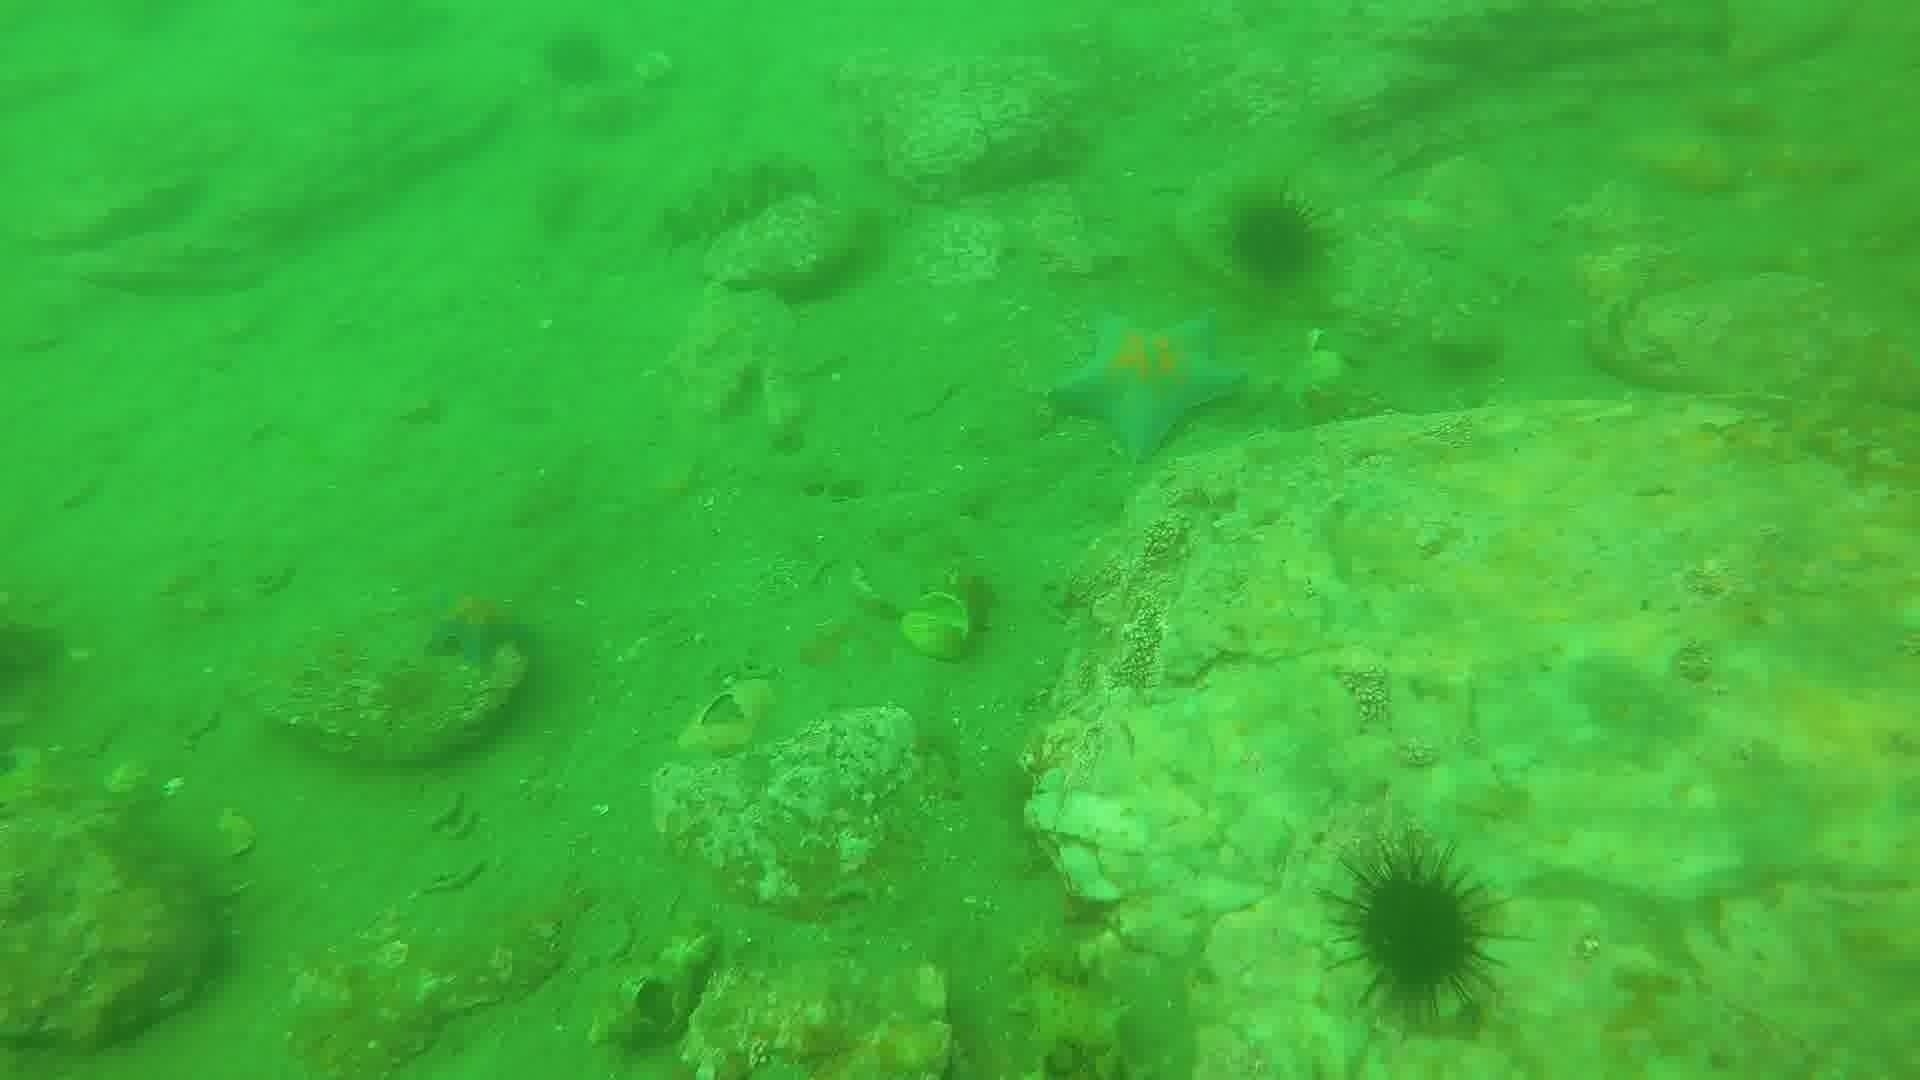echinus: (1327, 841, 1509, 1022), (1222, 190, 1331, 291), (535, 25, 615, 94)
holothurian: (1006, 913, 1135, 1077), (657, 148, 819, 252)
starfish: (1047, 305, 1246, 462), (419, 585, 542, 676)
